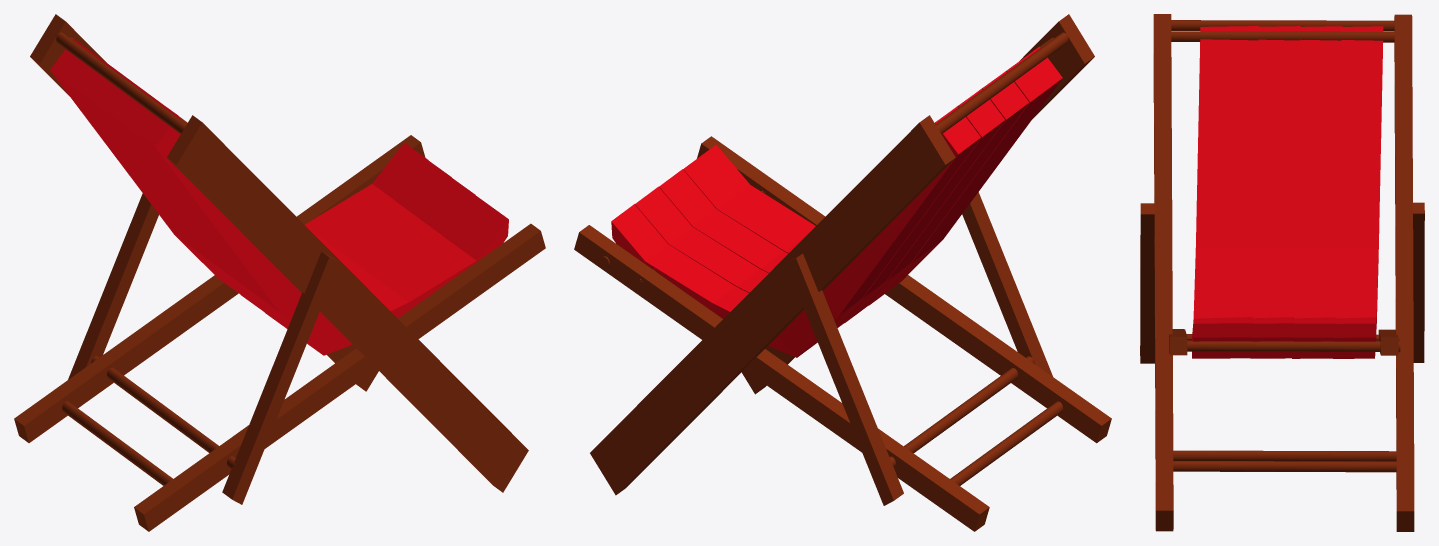
File: beachChair.fbx
3 views of the same model, side by side, from view 1: azimuth 30°, elevation 25°; view 2: azimuth 150°, elevation 25°; view 3: azimuth 270°, elevation 25° (orthographic). The views are drawn at different scales.
Parts seen in each view (by area): view 1: Cube.001; view 2: Cube.001; view 3: Cube.001.
Part boxes in pixels (x1,y1,x2,y2): Cube.001: (14,14,545,531); Cube.001: (574,14,1111,531); Cube.001: (1140,14,1424,531).
Bounding box in the file's own units: 263 × 276 × 183.
